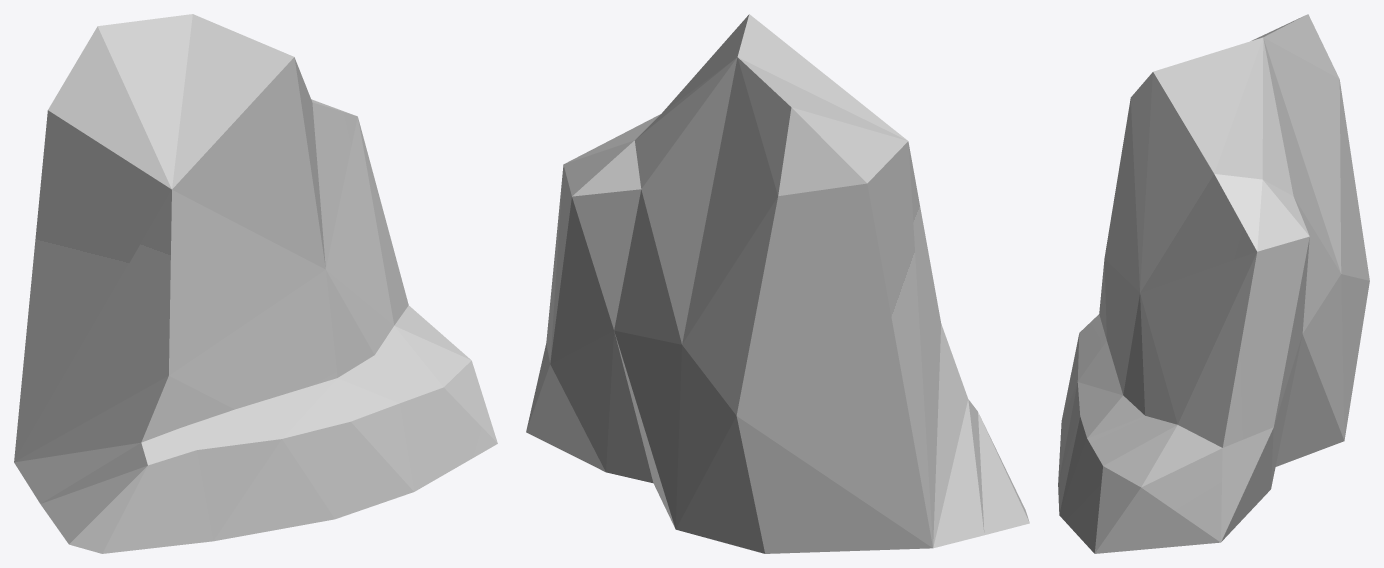
Rendered from EA01_Env_Rock_01c.glb.
The picture shows the model from 3 angles, left to right: view 1: azimuth 30°, elevation 25°; view 2: azimuth 150°, elevation 25°; view 3: azimuth 270°, elevation 25°; orthographic projection. The views are drawn at different scales.
Visible parts, largest first — view 1: EA01_Env_Rock_01c; view 2: EA01_Env_Rock_01c; view 3: EA01_Env_Rock_01c.
Boxes of the visible parts, left/top/right/bottom form: EA01_Env_Rock_01c: left=14, top=14, right=497, bottom=553; EA01_Env_Rock_01c: left=526, top=14, right=1029, bottom=553; EA01_Env_Rock_01c: left=1058, top=14, right=1369, bottom=553.
Bounding box in the file's own units: 5.4 × 5.45 × 3.59.
Materials: 1 (1 with a texture image).
